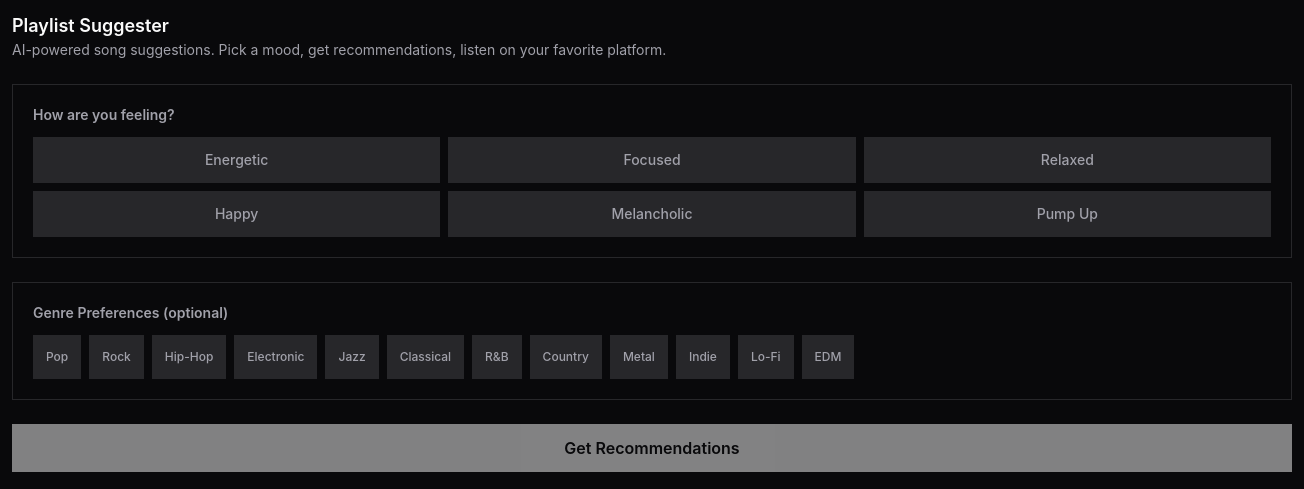
Test: MusicPage (Playlist Suggester) › enables generate button when mood selected
The image size is (1304, 489).
What coordinates should you click on to do the following:
click the button "Energetic"
I would click on:
 (237, 160)
Its box is [33,137,440,183].
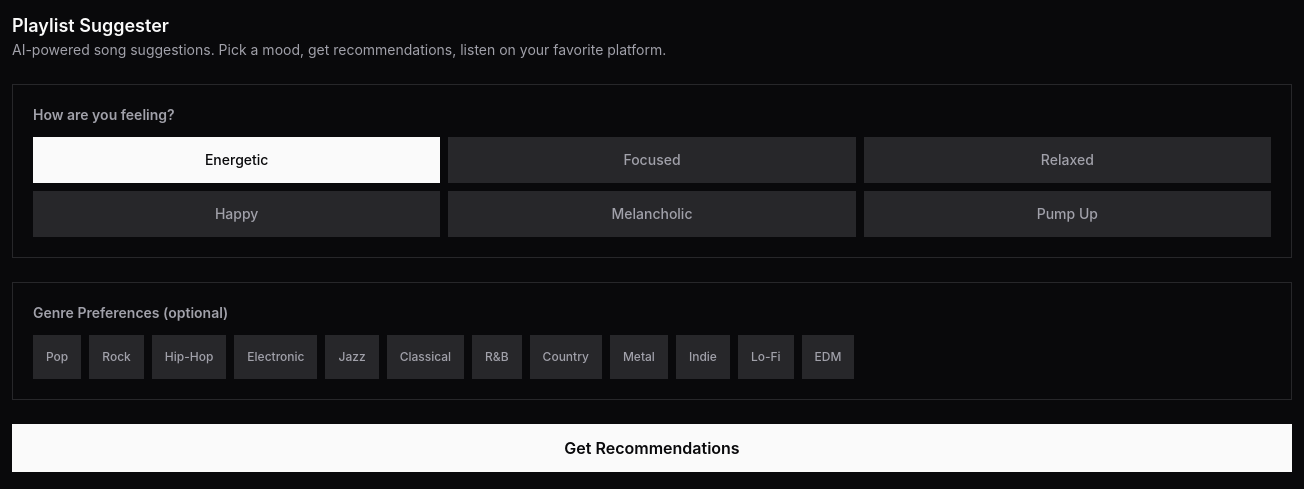
Check: the button "Get Recommendations" is enabled, box [12,424,1292,472]
